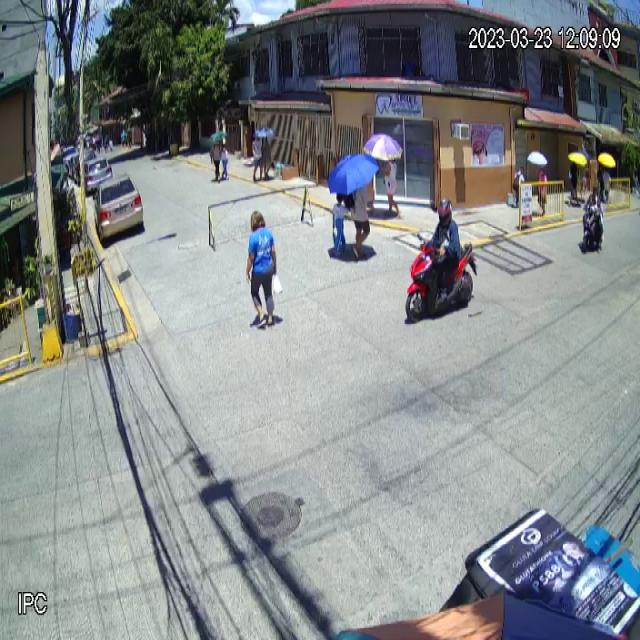Car: (92, 172, 143, 243)
Motorcycle: (405, 231, 478, 321)
